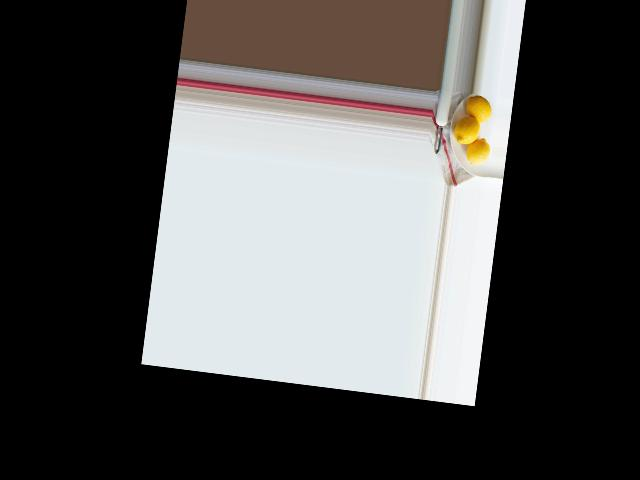lemon: (466, 92, 493, 124)
